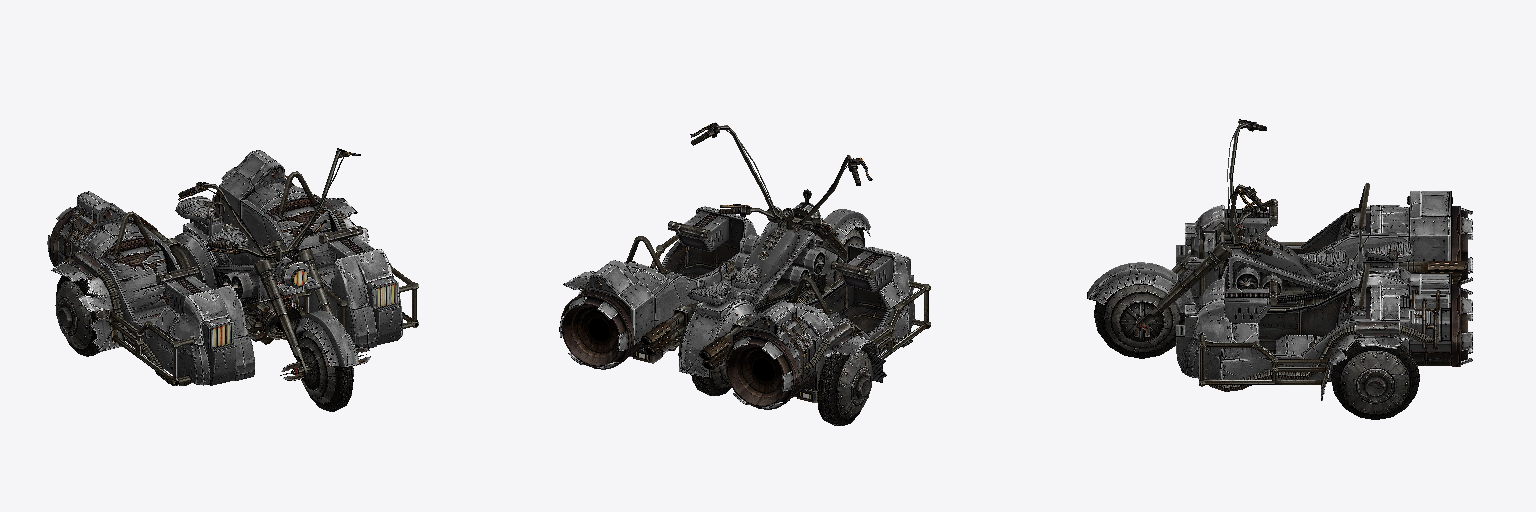
3 views of the same model, side by side, from view 1: azimuth 30°, elevation 25°; view 2: azimuth 150°, elevation 25°; view 3: azimuth 270°, elevation 25° (orthographic).
Size of the model in its own units: 4.17 by 2.78 by 4.77.
Materials: 1 (1 with a texture image).